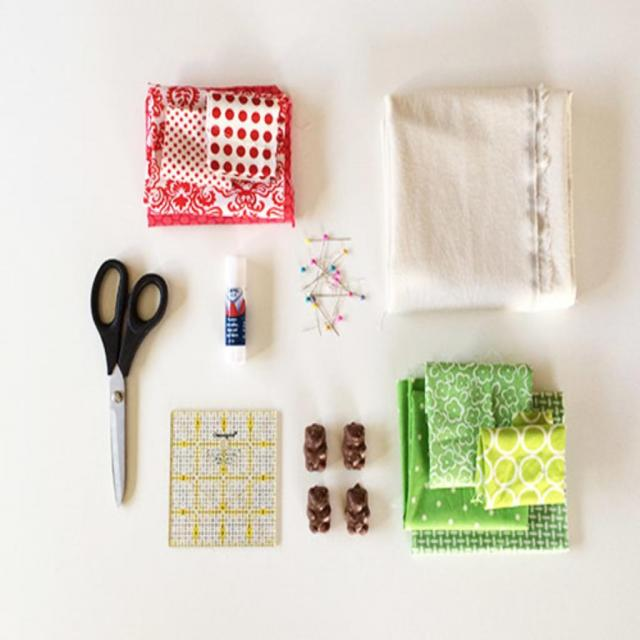scissor: (87, 256, 167, 506)
